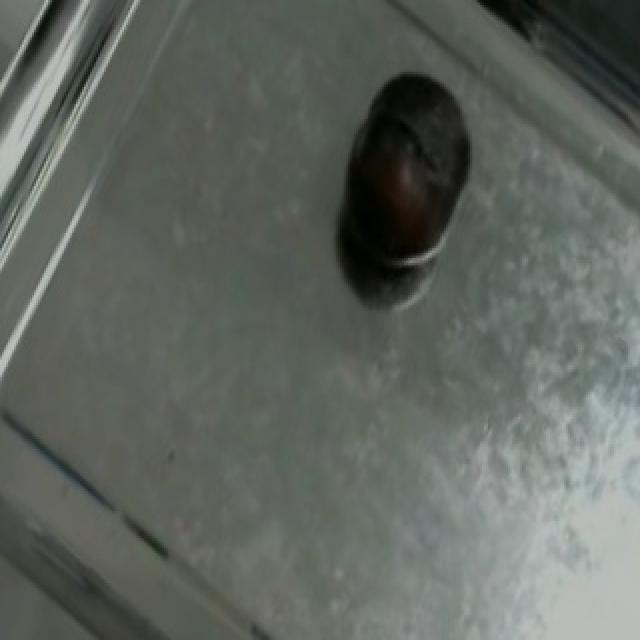Fruit: (334, 52, 490, 266)
